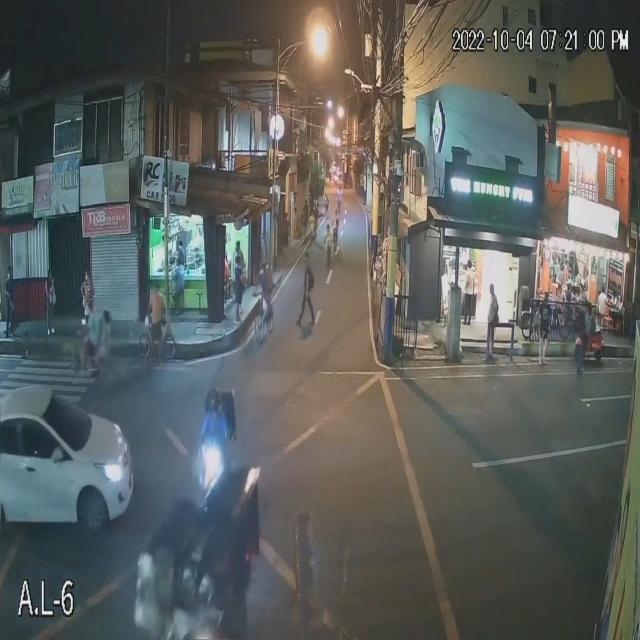Full-Faced: (583, 298, 596, 315)
